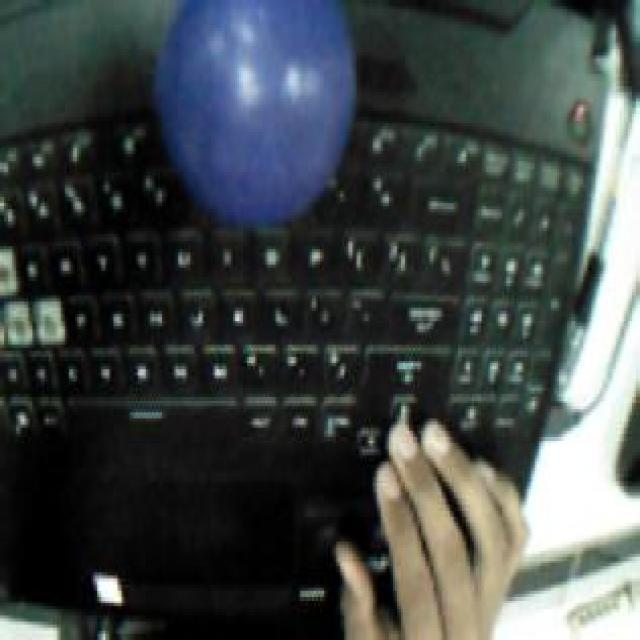BallPurple: (154, 0, 356, 234)
